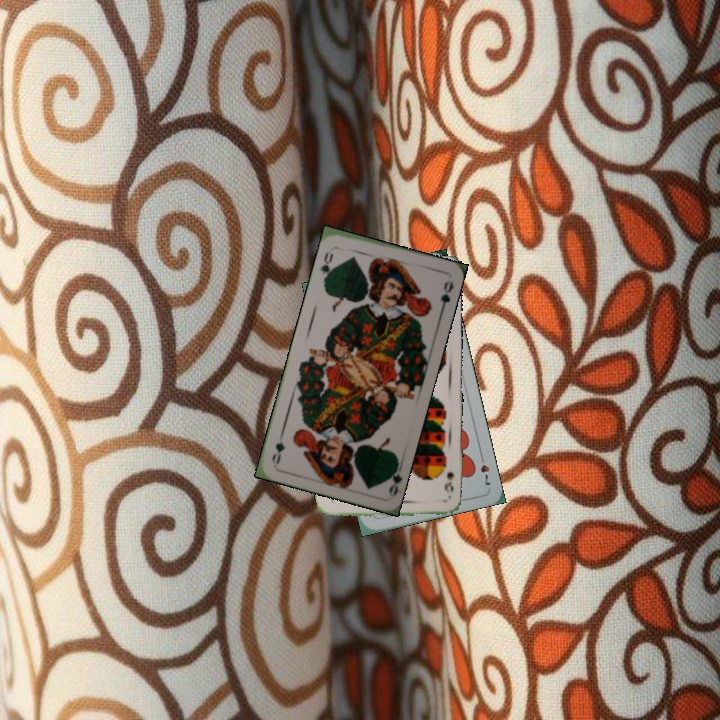GO: (382, 457, 404, 498), (317, 247, 337, 283)
H7: (476, 449, 494, 488)
S9: (438, 459, 456, 495)
